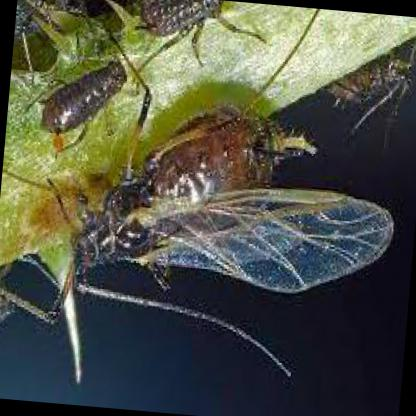uroleucon compositae: (66, 104, 396, 294)
